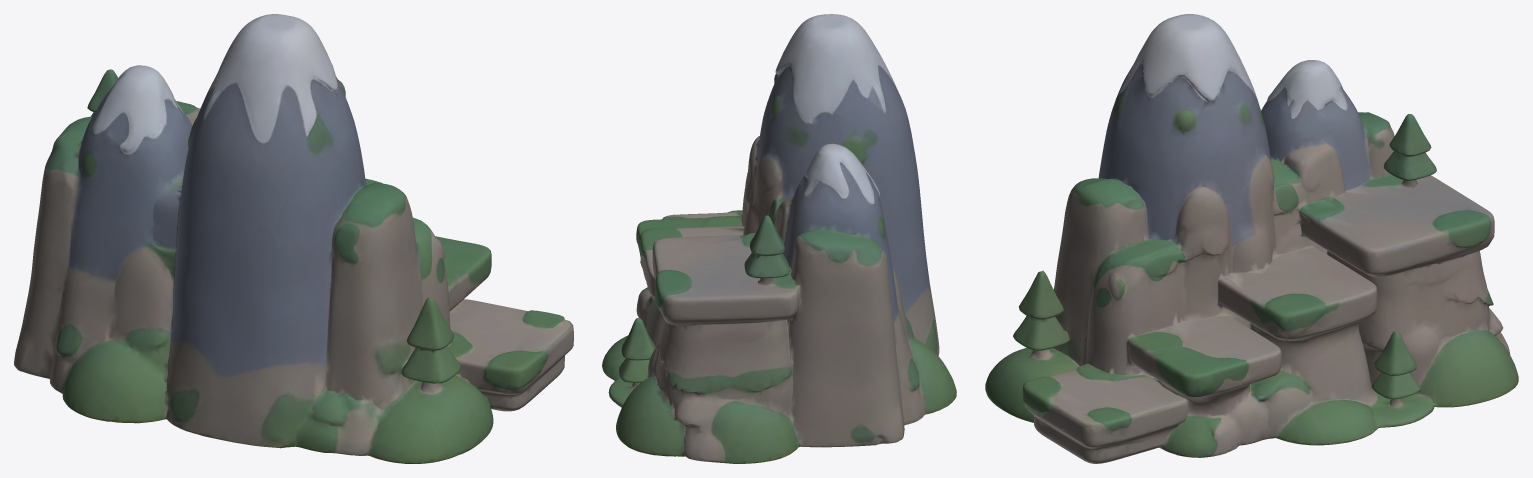
The model's file is toy-mountain-raw.glb.
3 views of the same model, side by side, from view 1: azimuth 30°, elevation 25°; view 2: azimuth 150°, elevation 25°; view 3: azimuth 270°, elevation 25° (orthographic). The views are drawn at different scales.
Visible parts, largest first — view 1: tripo_node_d9c95967-1aca-41eb-b97f-12d77a739846; view 2: tripo_node_d9c95967-1aca-41eb-b97f-12d77a739846; view 3: tripo_node_d9c95967-1aca-41eb-b97f-12d77a739846.
Part boxes in pixels (left/top/right/bottom): tripo_node_d9c95967-1aca-41eb-b97f-12d77a739846: left=14, top=14, right=573, bottom=463; tripo_node_d9c95967-1aca-41eb-b97f-12d77a739846: left=602, top=14, right=956, bottom=463; tripo_node_d9c95967-1aca-41eb-b97f-12d77a739846: left=985, top=14, right=1518, bottom=463.
Bounding box in the file's own units: 0.8494 × 0.7302 × 1.03.
1 material, 1 textured.
